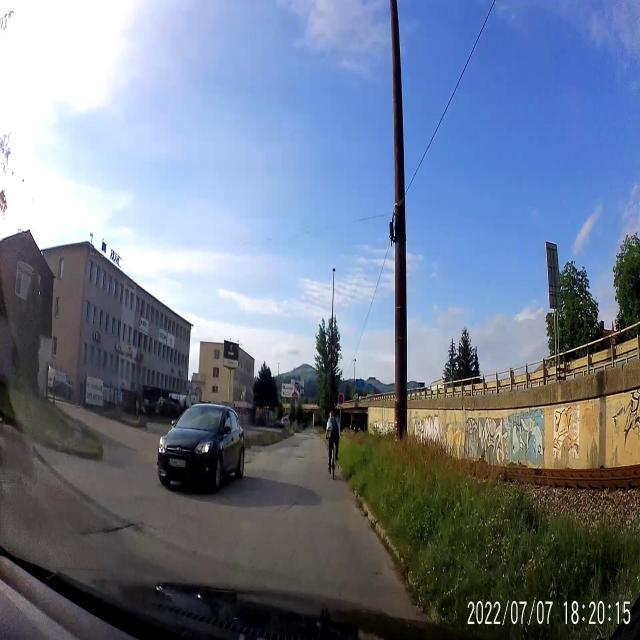Manhole: (293, 443, 300, 448)
Pothole: (77, 510, 142, 544), (296, 455, 306, 459)
